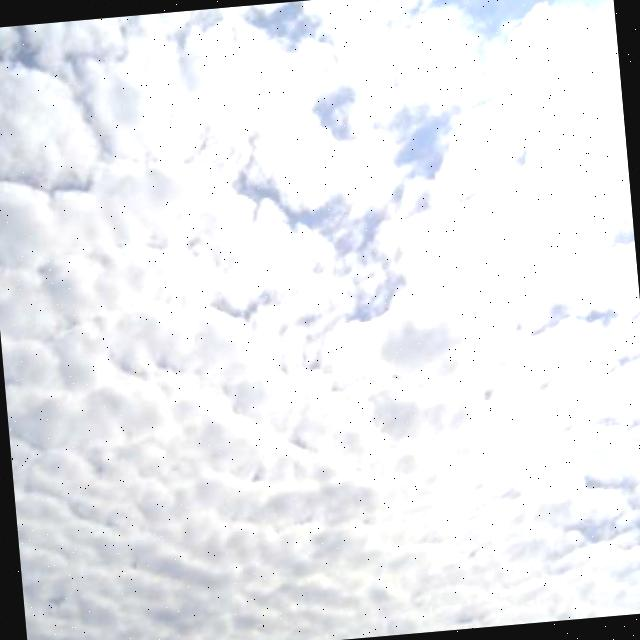Ac: (1, 1, 640, 635)
